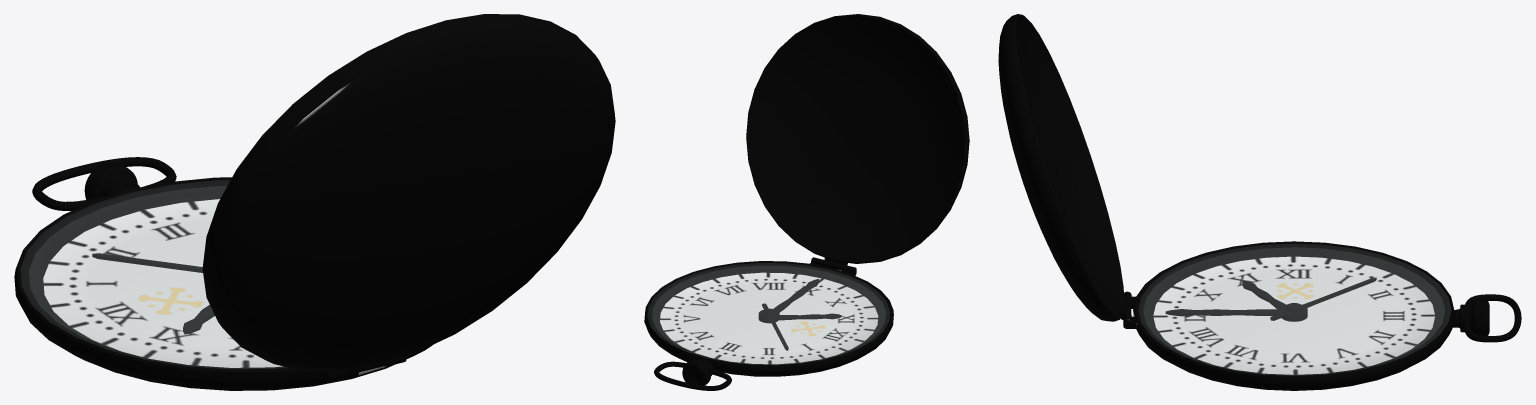
Rendered from aceptacion Reloj.fbx.
3 renders of one model, left to right at view 1: azimuth 30°, elevation 25°; view 2: azimuth 150°, elevation 25°; view 3: azimuth 270°, elevation 25°, orthographic. The views are drawn at different scales.
Visible parts, largest first — view 1: Object_8, Object_4, Object_10, Object_20, Object_18, Object_22; view 2: Object_8, Object_4, Object_10, Object_20, Object_18, Object_12, Object_14, Object_22; view 3: Object_4, Object_10, Object_8, Object_18, Object_20, Object_12, Object_22, Object_14.
Part boxes in pixels (box(x1,y1,x2,y2)): Object_8: box(202, 14, 615, 374); Object_4: box(14, 177, 432, 390); Object_10: box(29, 182, 282, 367); Object_20: box(32, 157, 176, 210); Object_18: box(84, 162, 140, 199); Object_22: box(92, 253, 202, 272); Object_8: box(746, 14, 969, 270); Object_4: box(644, 257, 893, 376); Object_10: box(652, 263, 885, 364); Object_20: box(654, 361, 731, 390); Object_18: box(682, 358, 713, 385); Object_12: box(758, 279, 818, 321); Object_14: box(758, 313, 841, 323); Object_22: box(758, 303, 788, 350); Object_4: box(1123, 241, 1454, 390); Object_10: box(1143, 244, 1445, 374); Object_8: box(998, 14, 1131, 321); Object_18: box(1452, 299, 1489, 335); Object_20: box(1462, 294, 1521, 342); Object_12: box(1165, 309, 1307, 319); Object_22: box(1270, 277, 1376, 320); Object_14: box(1242, 281, 1307, 321).
Size of the model in its own units: 5.1 by 5.56 by 8.27.
Materials: 4 (2 with a texture image).
